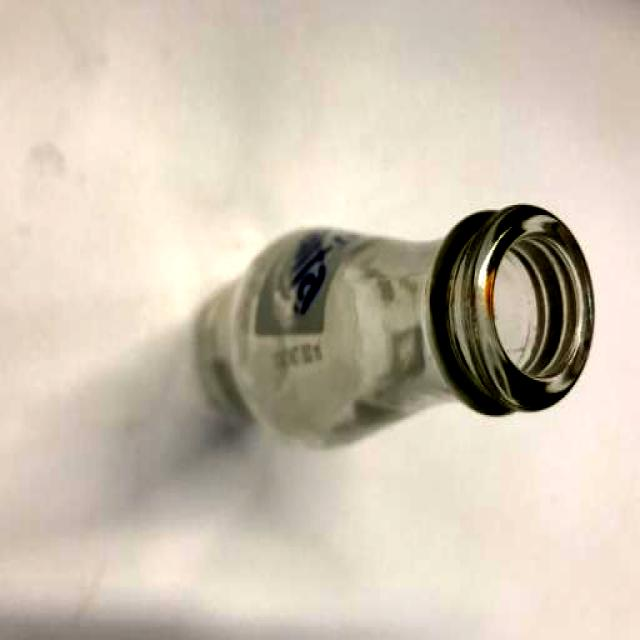Glass: (198, 197, 598, 457)
